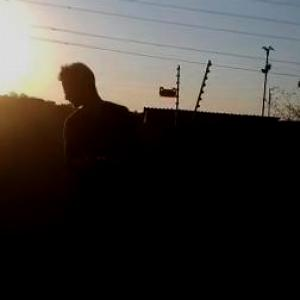follow: (52, 58, 149, 299)
